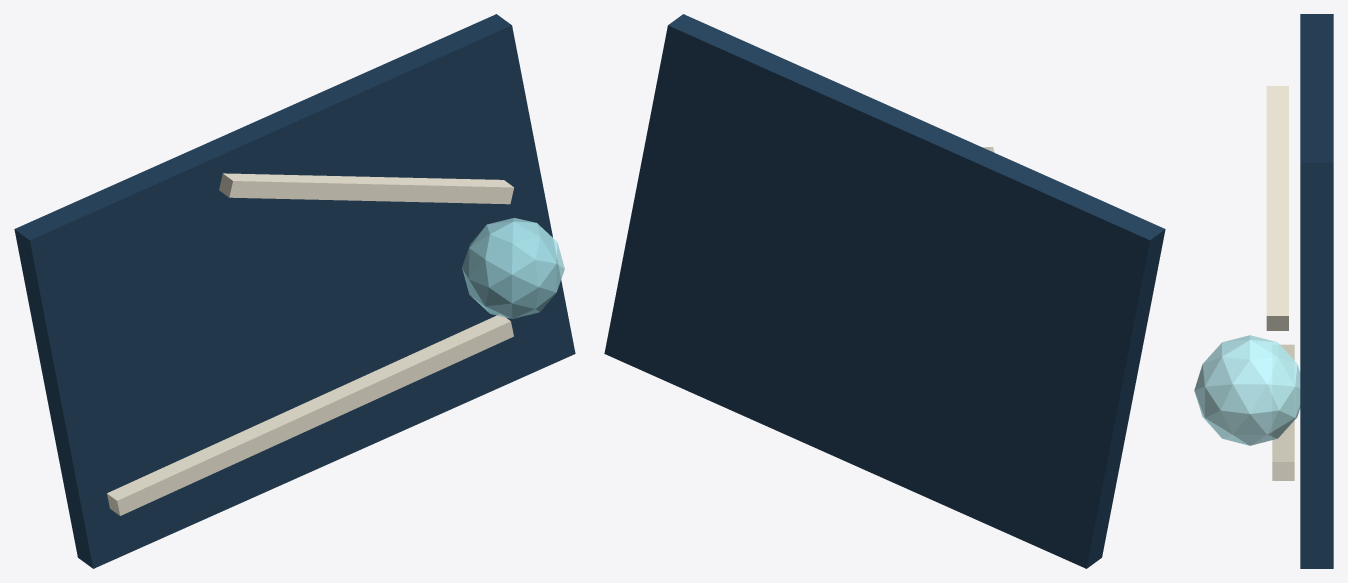
Rendered from 02_world_prop_polish.glb.
The picture shows the model from 3 angles, left to right: view 1: azimuth 30°, elevation 25°; view 2: azimuth 150°, elevation 25°; view 3: azimuth 270°, elevation 25°; orthographic projection. The views are drawn at different scales.
Visible parts, largest first — view 1: object_overlay_plate, edge_wear_a, glow_socket, edge_wear_b; view 2: object_overlay_plate; view 3: object_overlay_plate, glow_socket, edge_wear_b, edge_wear_a.
Boxes of the visible parts, left/top/right/bottom form: object_overlay_plate: left=14, top=14, right=575, bottom=568; edge_wear_a: left=107, top=314, right=513, bottom=515; glow_socket: left=462, top=218, right=564, bottom=318; edge_wear_b: left=219, top=173, right=514, bottom=204; object_overlay_plate: left=604, top=14, right=1165, bottom=568; object_overlay_plate: left=1300, top=14, right=1333, bottom=568; glow_socket: left=1194, top=335, right=1300, bottom=445; edge_wear_b: left=1266, top=86, right=1288, bottom=330; edge_wear_a: left=1272, top=344, right=1294, bottom=480.
Size of the model in its own units: 1.22 by 0.945 by 0.25.
